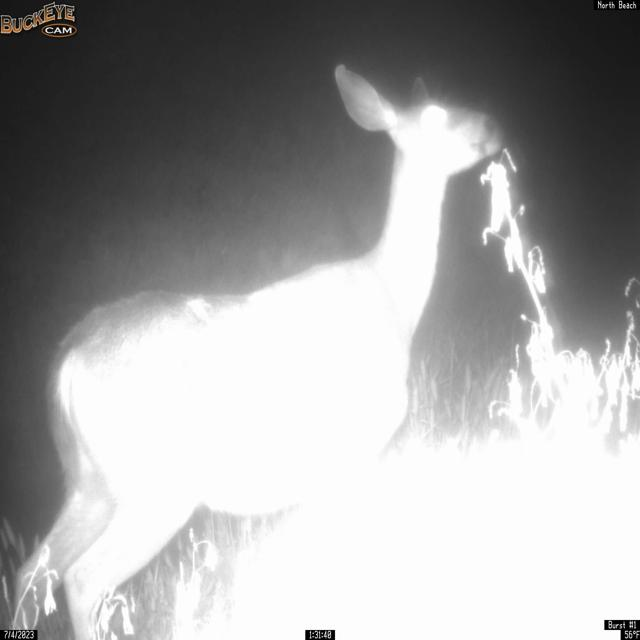deer: (10, 63, 504, 639)
